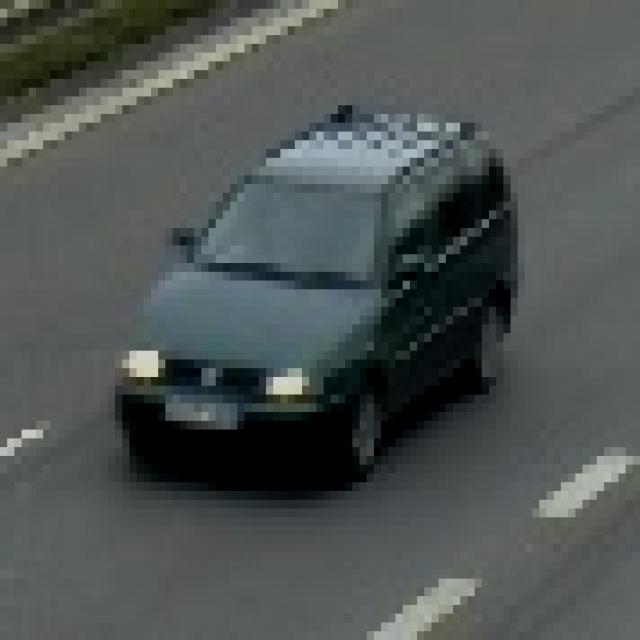SUV: (125, 125, 497, 466)
